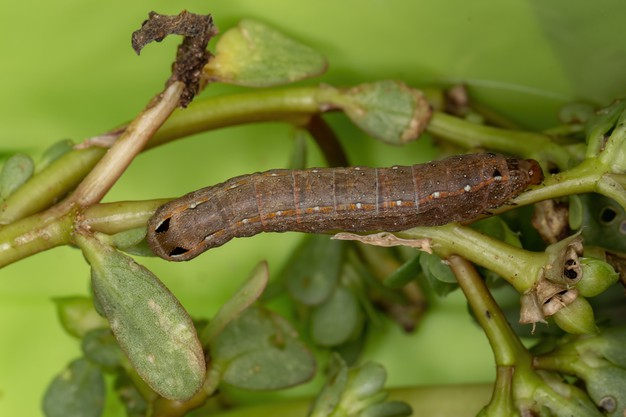Armyworm: (157, 132, 551, 267)
